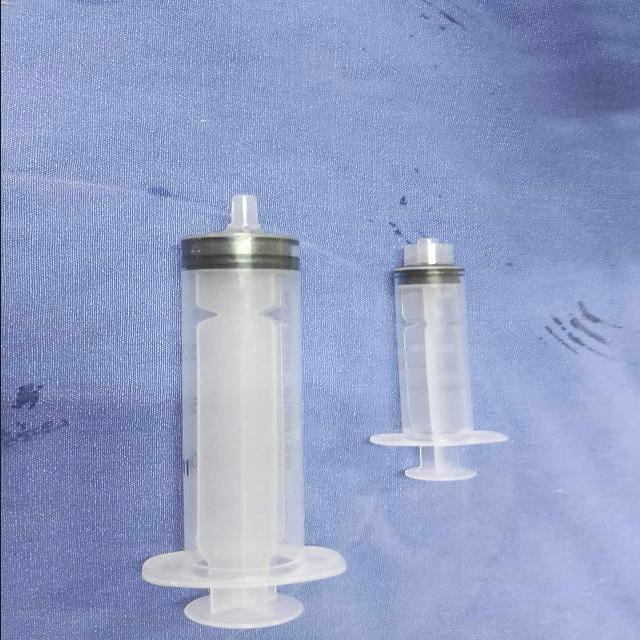Sharps: (140, 192, 348, 630), (367, 236, 510, 482)
